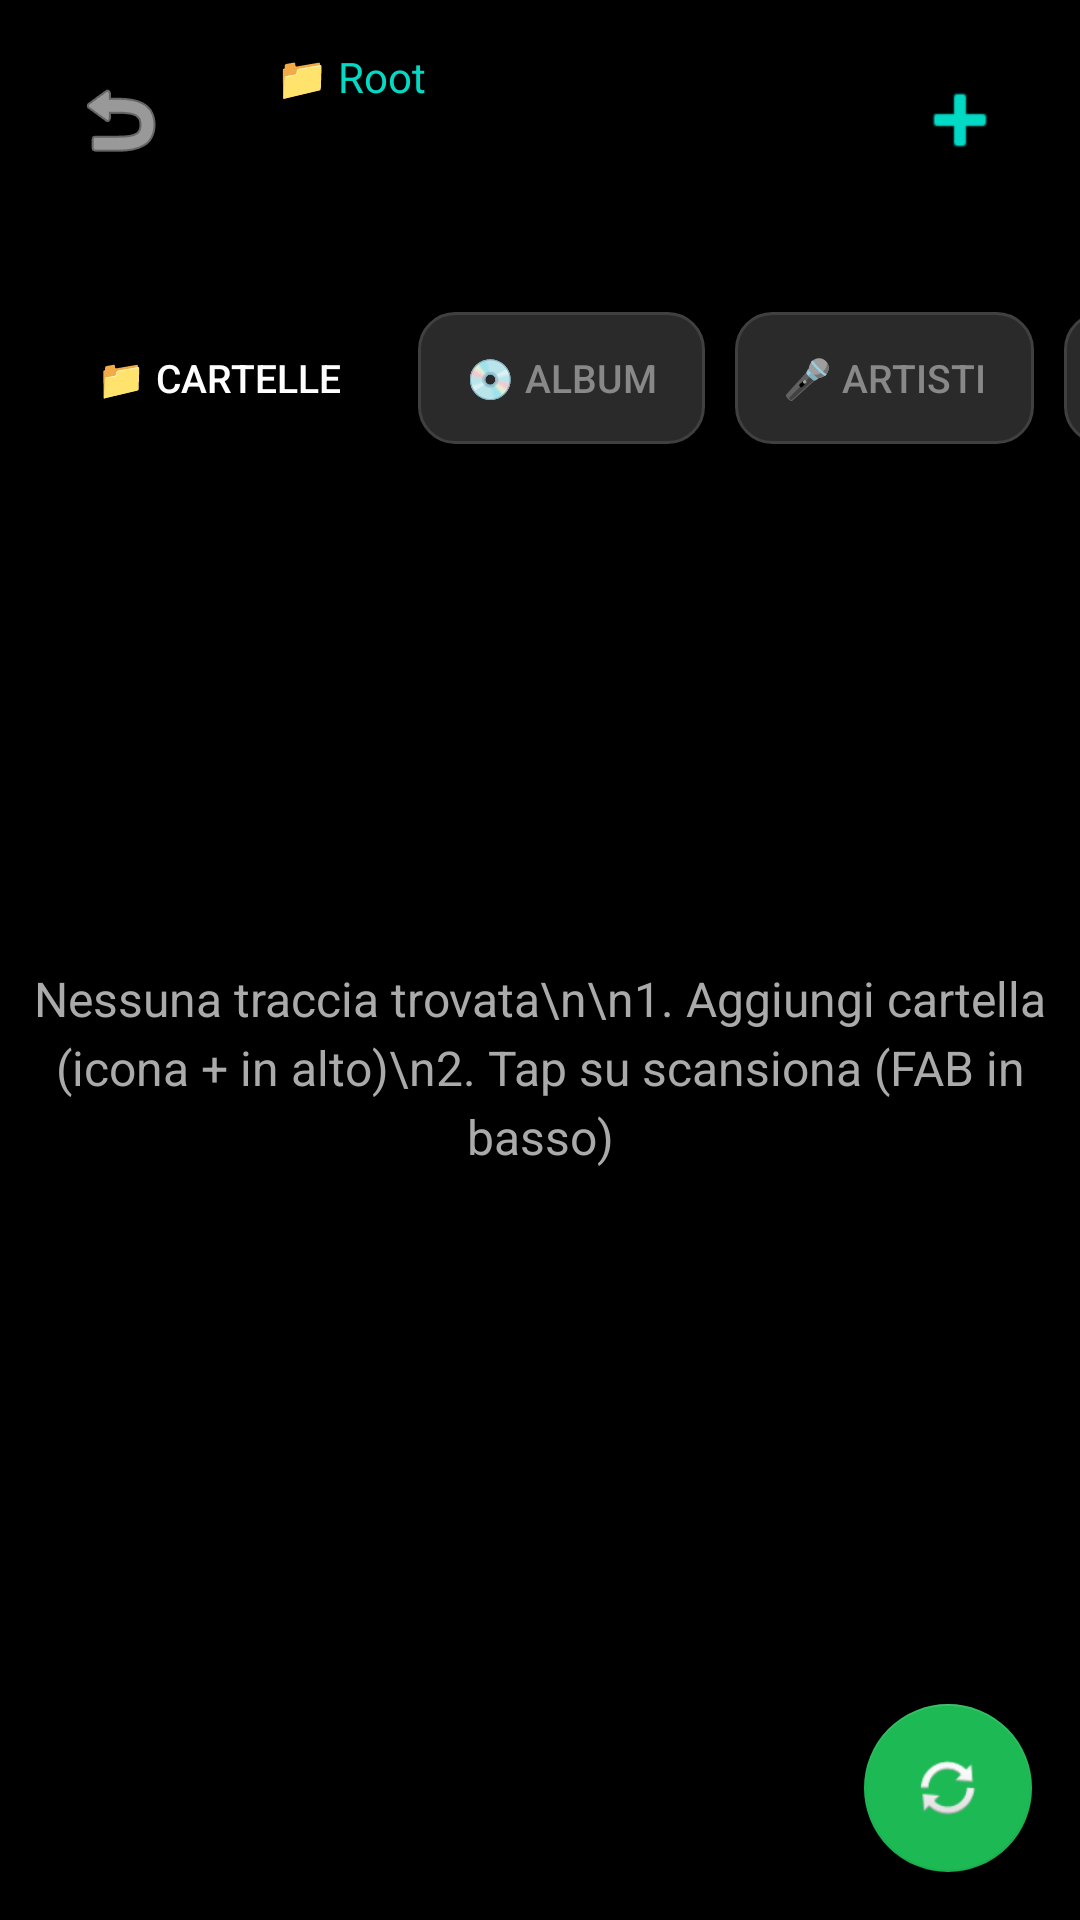

Named icons in this screenshot (1080 x 1920) and their centers, (x,y):
Aggiungi cartella: (960,120)
Back: (121,120)
Scansiona libreria: (948,1788)
